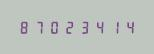eight: (17, 20, 31, 34)
four: (92, 20, 106, 34), (122, 20, 136, 34)
one: (107, 20, 121, 34)
seven: (32, 20, 46, 34)
three: (77, 20, 91, 34)
two: (62, 20, 76, 34)
zero: (47, 20, 61, 34)
